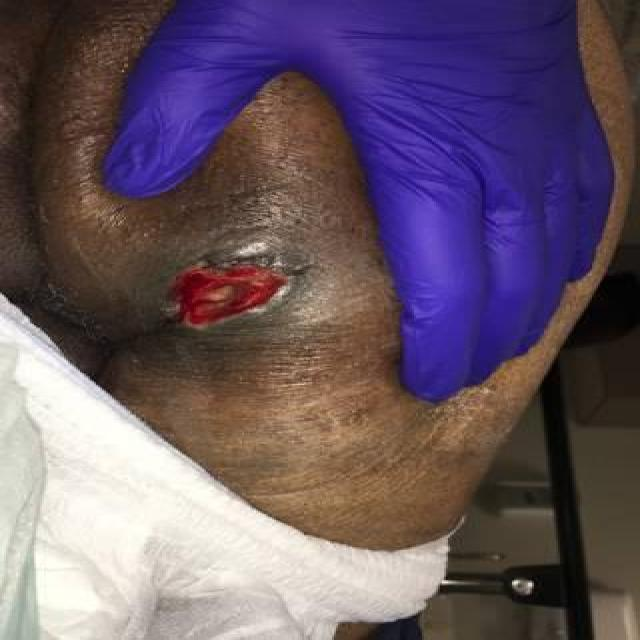stage-3: (172, 265, 287, 327)
